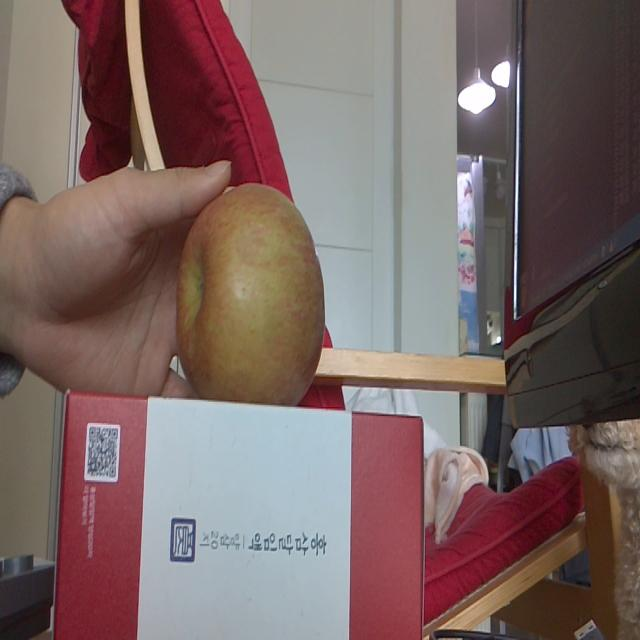apple: (180, 185, 325, 408)
